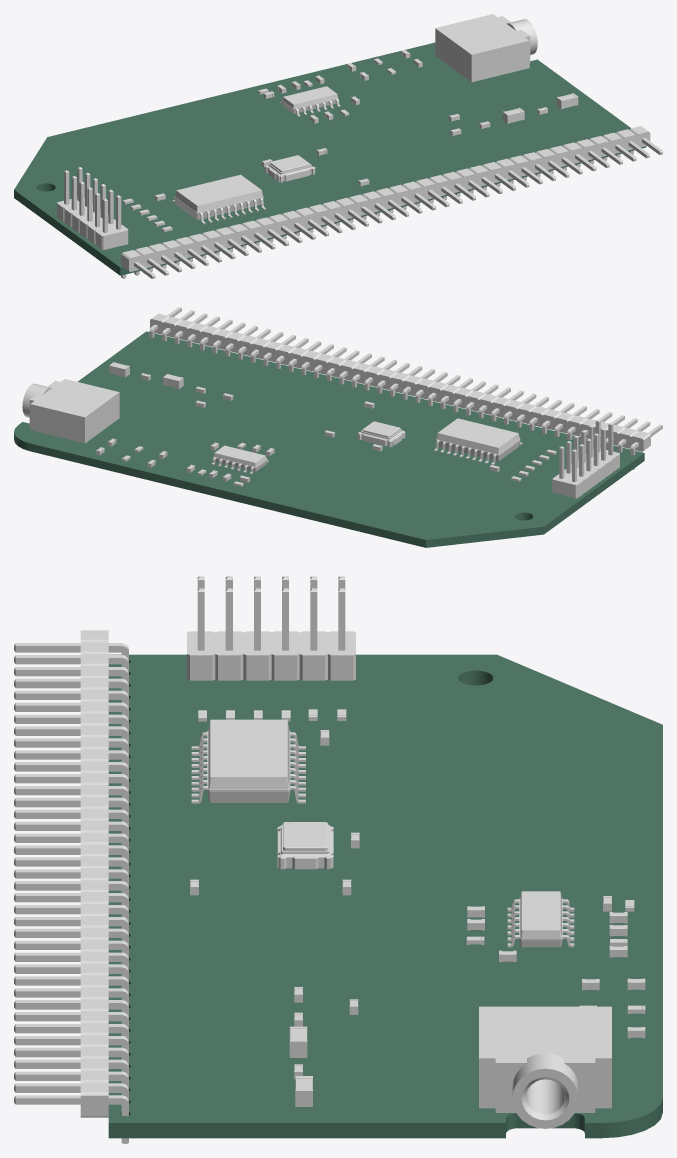
Rendered from rcbus-ymf262-3D.glb.
3 views of the same model, one above another, from view 1: azimuth 30°, elevation 25°; view 2: azimuth 150°, elevation 25°; view 3: azimuth 270°, elevation 25° (orthographic). The views are drawn at different scales.
Visible parts, largest first — view 1: =>[0:1:1:12], P1, CON1, JP1, U1, U4, Y1; view 2: =>[0:1:1:12], P1, CON1, JP1, U1, U4, Y1; view 3: =>[0:1:1:12], P1, CON1, JP1, U1, U4, Y1.
Part boxes in pixels (x1,y1,x2,y2): =>[0:1:1:12]: (14,42,646,275); P1: (121,126,662,278); CON1: (435,14,537,82); JP1: (57,167,128,249); U1: (172,174,265,224); U4: (280,86,340,116); Y1: (265,155,315,182); =>[0:1:1:12]: (14,331,644,547); P1: (149,307,662,469); CON1: (22,379,119,443); JP1: (552,419,619,498); U1: (434,418,522,464); U4: (211,445,268,474); Y1: (357,421,405,447); =>[0:1:1:12]: (108,654,662,1138); P1: (14,630,128,1143); CON1: (479,1006,611,1128); JP1: (187,576,355,680); U1: (191,719,305,803); U4: (507,891,574,947); Y1: (277,822,333,869).
Size of the model in its own units: 0.1004 by 0.0118 by 0.0585.
